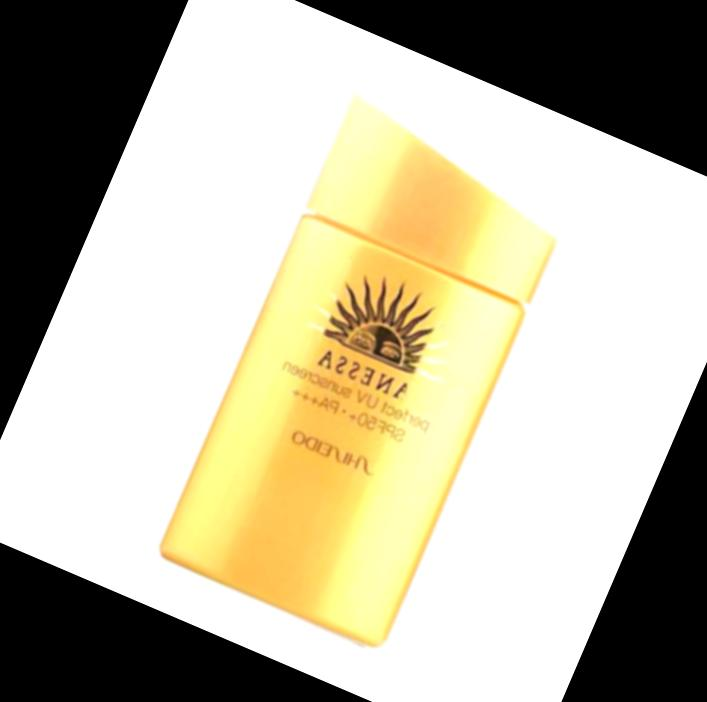cosmetic: (155, 77, 583, 649)
